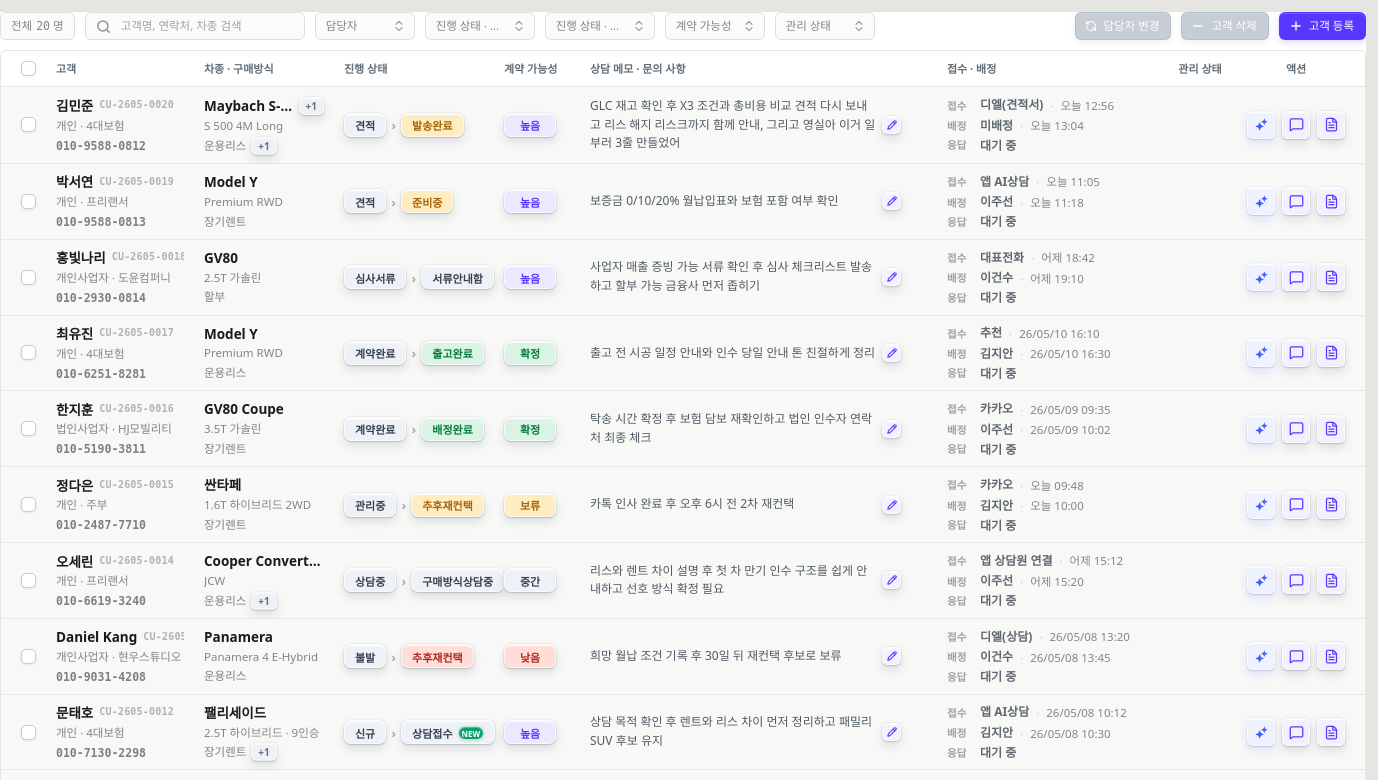
it: CustomerManagementPage › changes a two-step row stage without opening the customer
This screenshot has width=1378, height=780.
Click the button with aria-label "진행 1단계 변경: 견적": (365, 125) [344,113,386,137]
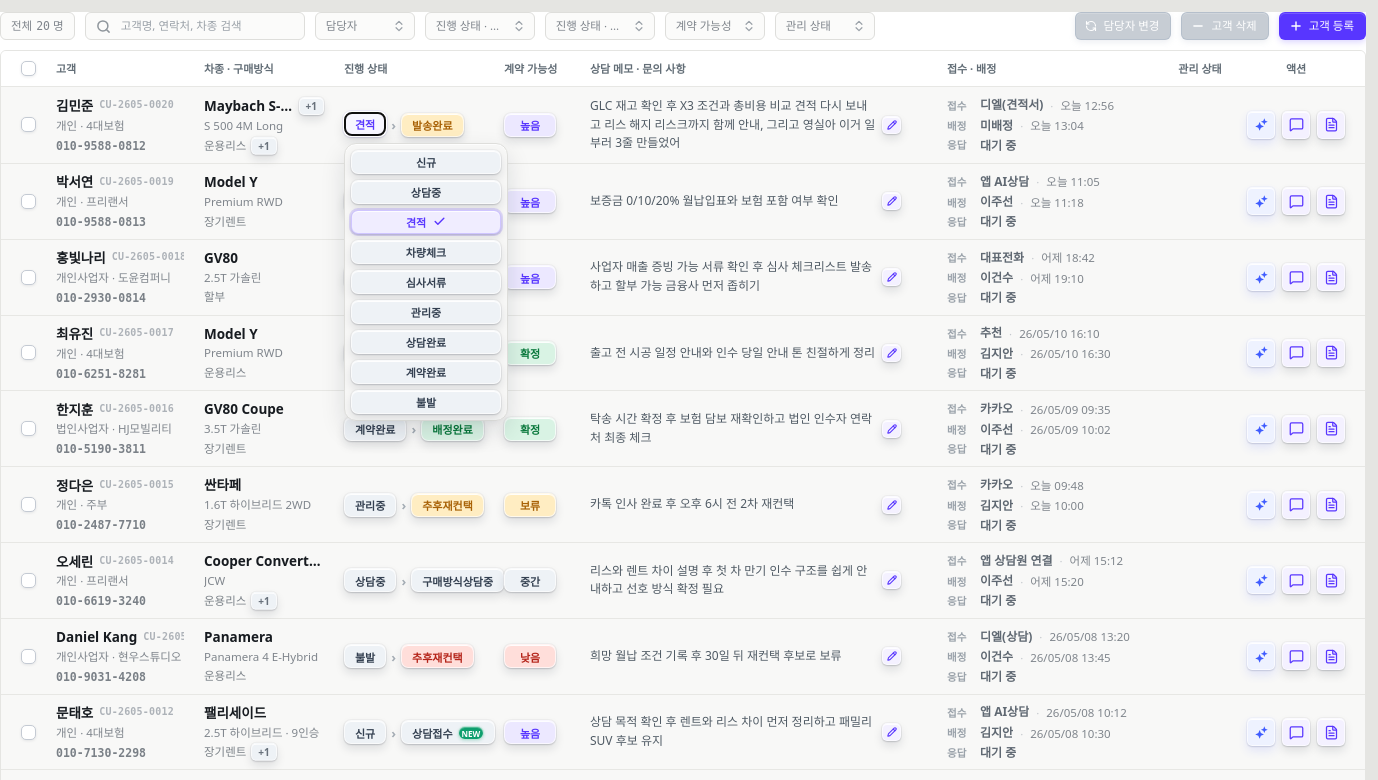
Click the option "상담중": (426, 192) [351,180,501,204]
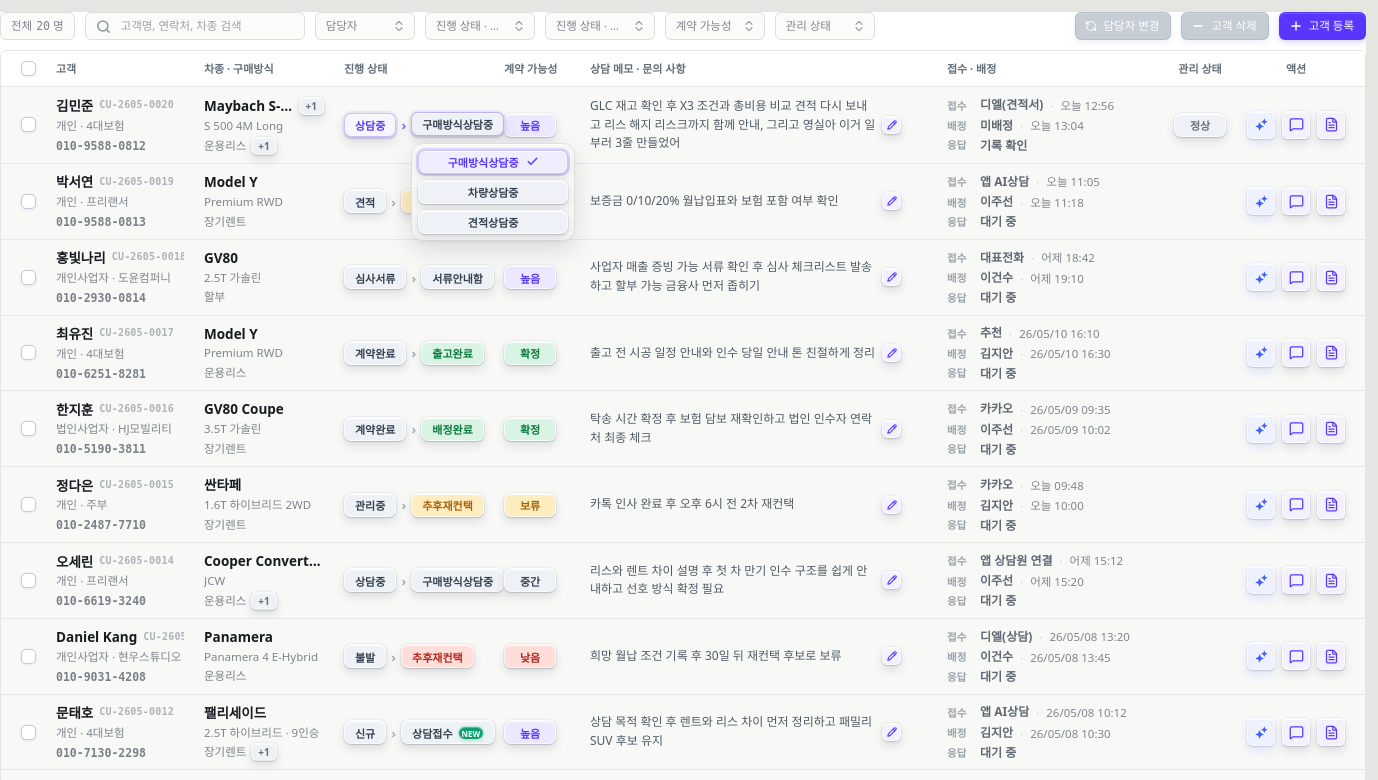
Now the button with aria-label "진행 1단계 변경: 상담중" is shown, box [344,113,396,137]
Now the button with aria-label "진행 2단계 변경: 구매방식상담중" is shown, box [411,112,504,136]
Now the list named "진행 2단계 선택" is shown, box [411,143,575,241]
Click the option "차량상담중": (493, 192) [418,180,568,204]
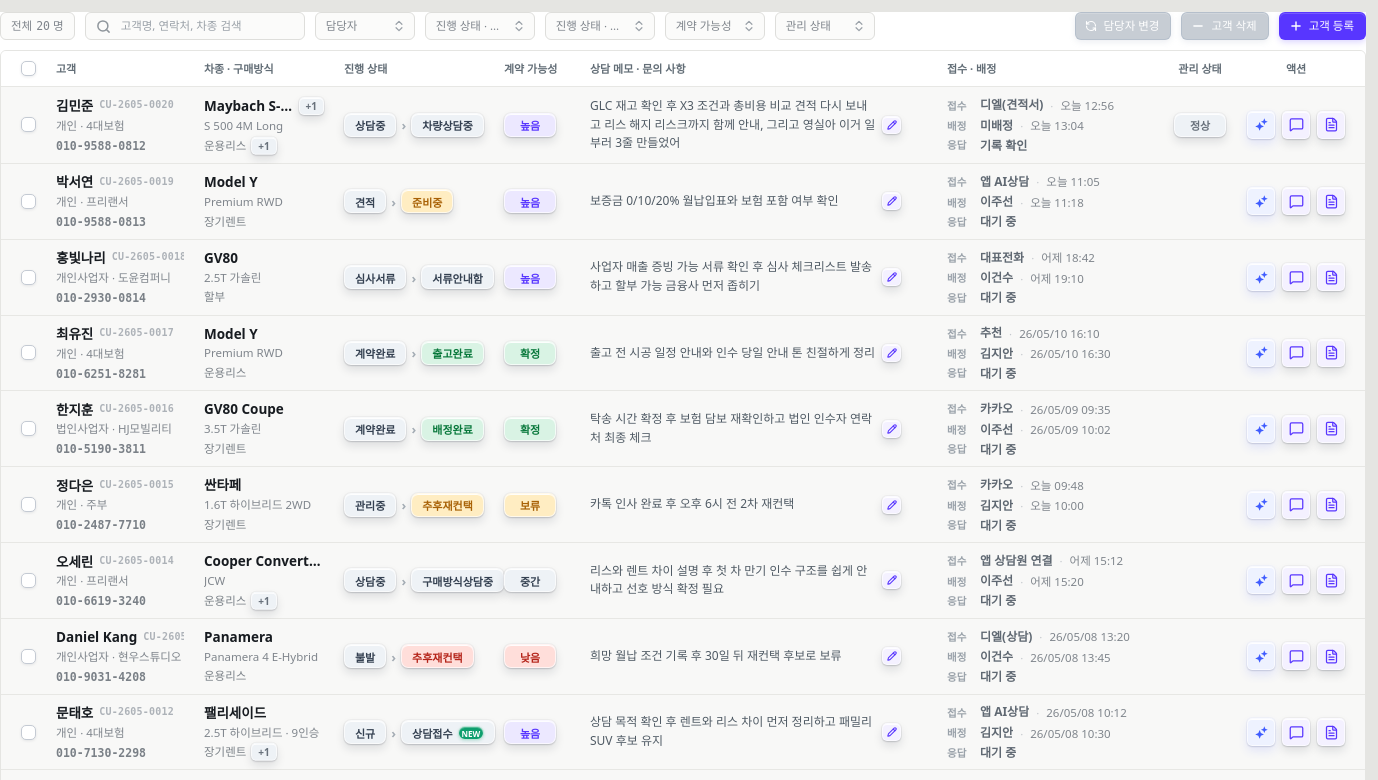
Now the button with aria-label "진행 2단계 변경: 차량상담중" is shown, box [411,113,484,137]
